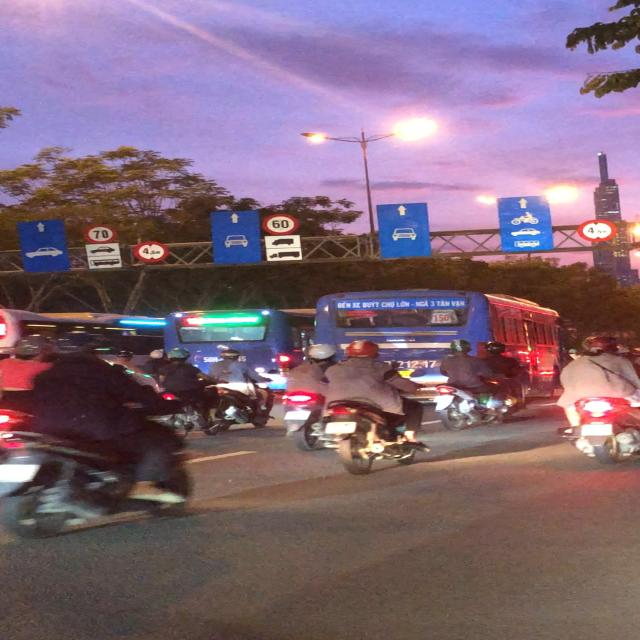Bien bao han che chieu cao: (129, 238, 173, 265), (576, 218, 619, 244)
Bien bao toc do toi da cho phep: (260, 212, 303, 236), (79, 221, 117, 243)
